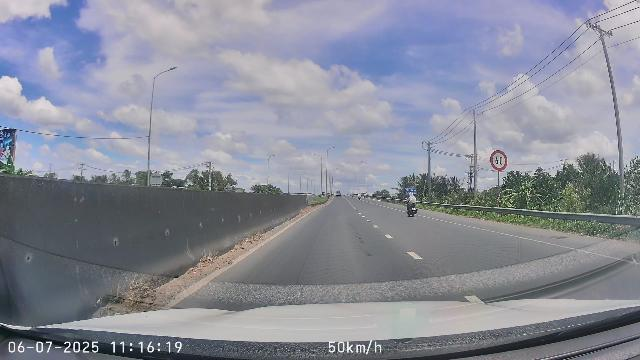127-toc-do-toi-da-60: (490, 150, 508, 171)
